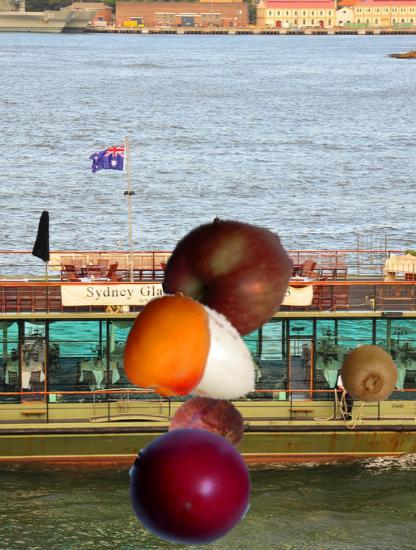Apple: (162, 212, 295, 345)
Apricot: (116, 291, 222, 397)
Kiwi: (338, 343, 400, 405)
Onion: (169, 391, 249, 471)
Pepino: (128, 283, 267, 422)
Tamarillo: (129, 426, 252, 549)
